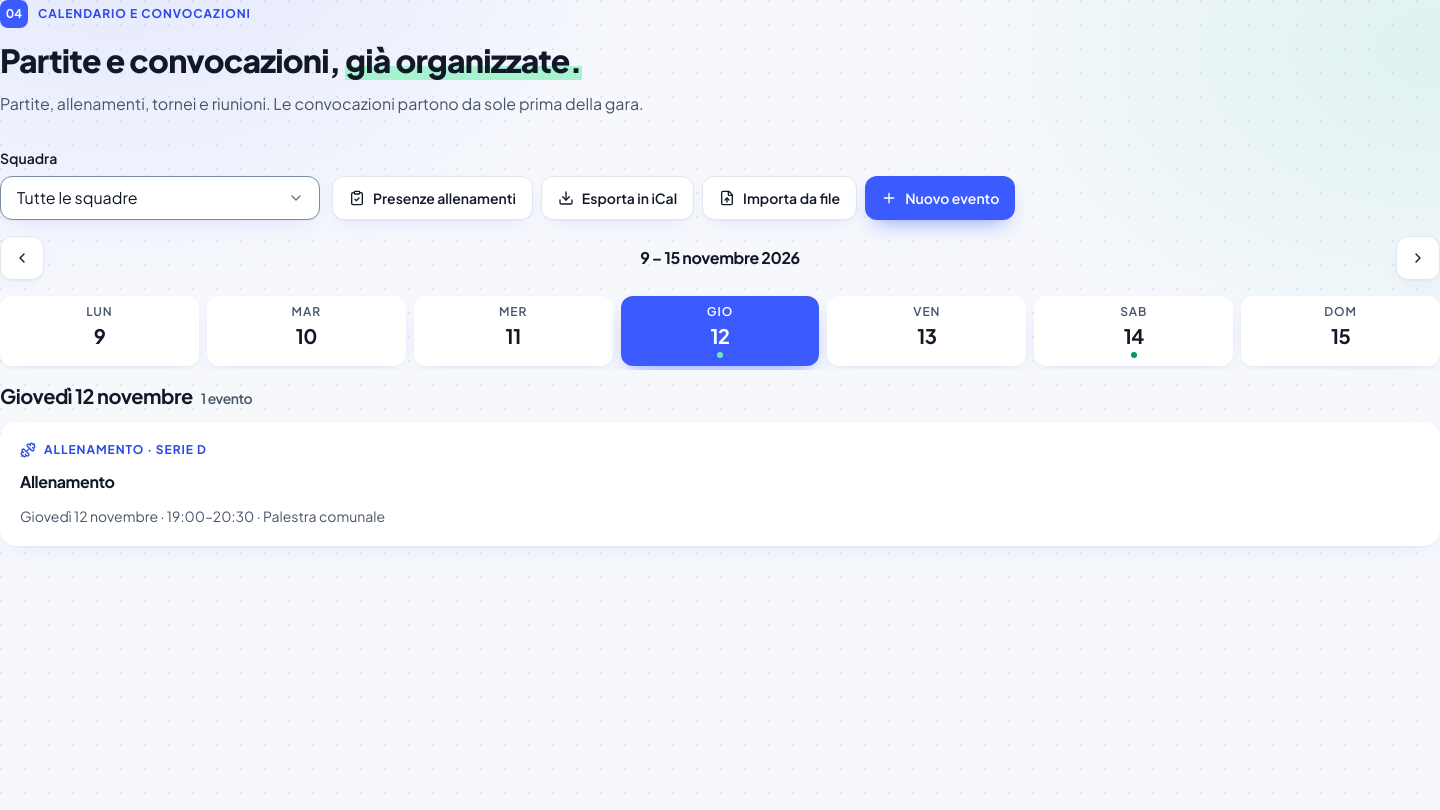
Scenario: event detail and squad › writes 'confermati · posti' instead of a fraction above one when more athletes confirmed than there are slots
This screenshot has width=1440, height=810.
Click the button named "sab 14 novembre, con eventi" at (1134, 331), box x1=1034 y1=296 x2=1233 y2=366
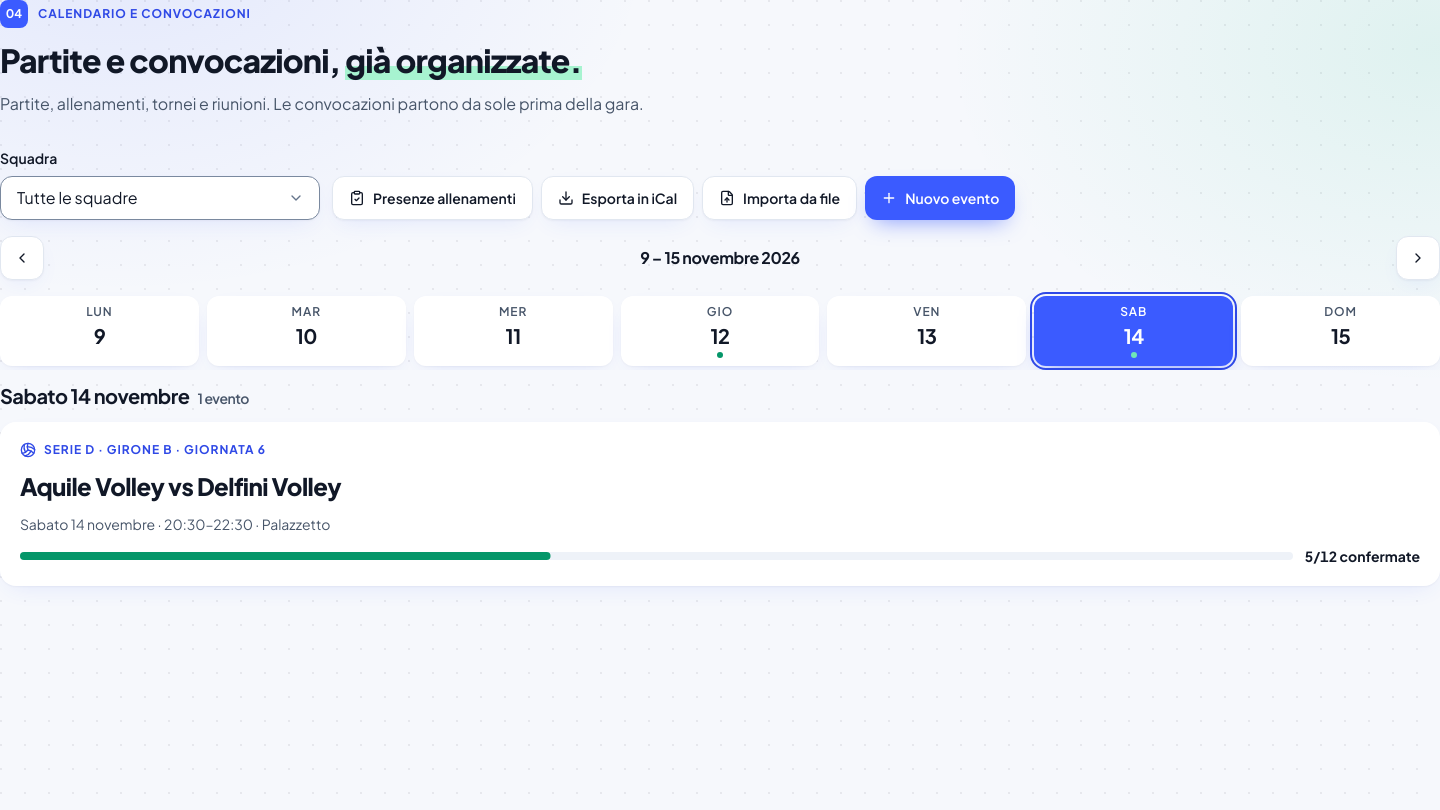
Click the button "Aquile Volley vs Delfini Volley" at (181, 486), box x1=20 y1=470 x2=341 y2=502
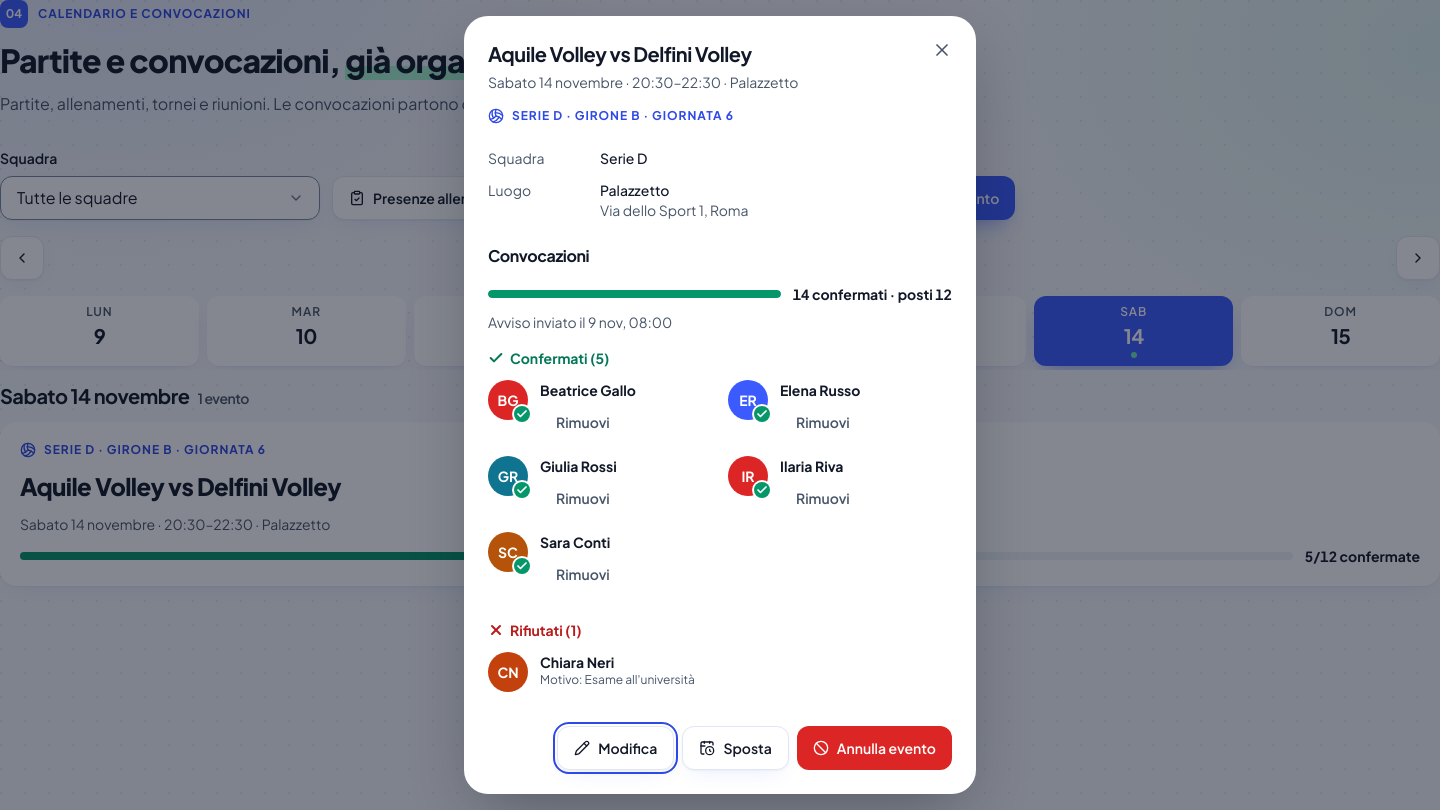
Expected: the text "14 confermati · posti 12" is shown, x1=793 y1=284 x2=952 y2=304
